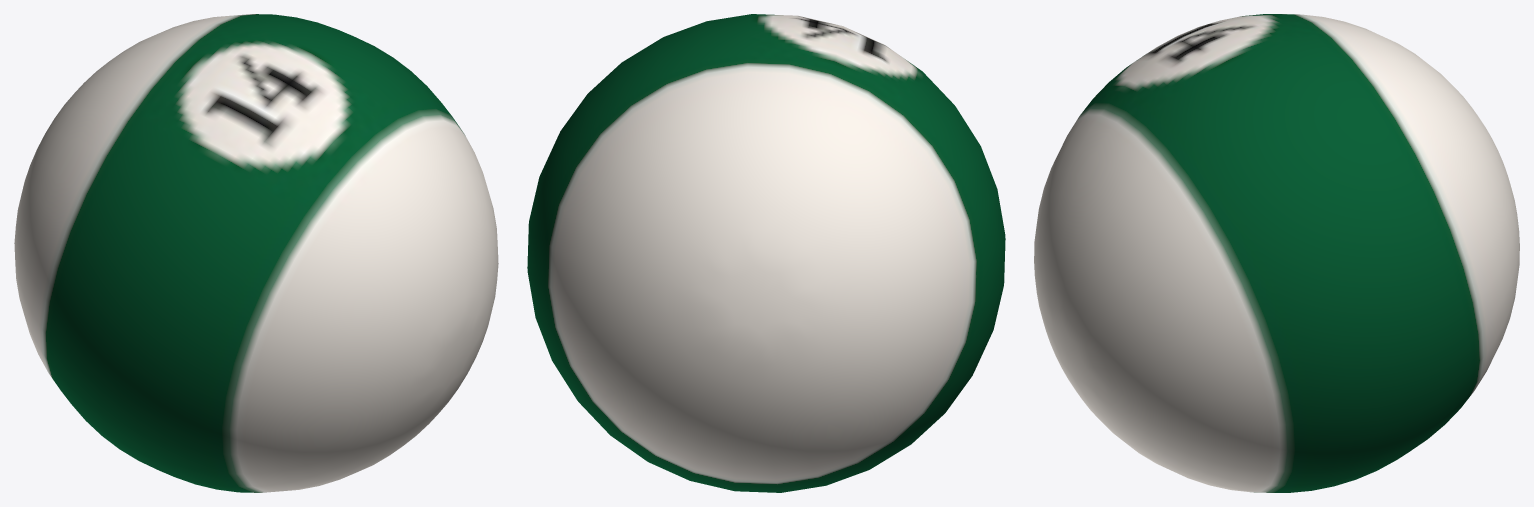
File: ball.fbx
3 renders of one model, left to right at view 1: azimuth 30°, elevation 25°; view 2: azimuth 150°, elevation 25°; view 3: azimuth 270°, elevation 25°, orthographic.
Parts seen in each view (by area): view 1: pool_ball_14_pool_ball_14_text_0; view 2: pool_ball_14_pool_ball_14_text_0; view 3: pool_ball_14_pool_ball_14_text_0.
Boxes of the visible parts, box(x1,y1,x2,y2) form: pool_ball_14_pool_ball_14_text_0: box(14, 14, 498, 492); pool_ball_14_pool_ball_14_text_0: box(527, 14, 1005, 492); pool_ball_14_pool_ball_14_text_0: box(1034, 14, 1519, 492).
Size of the model in its own units: 17.12 by 17.01 by 17.28.
